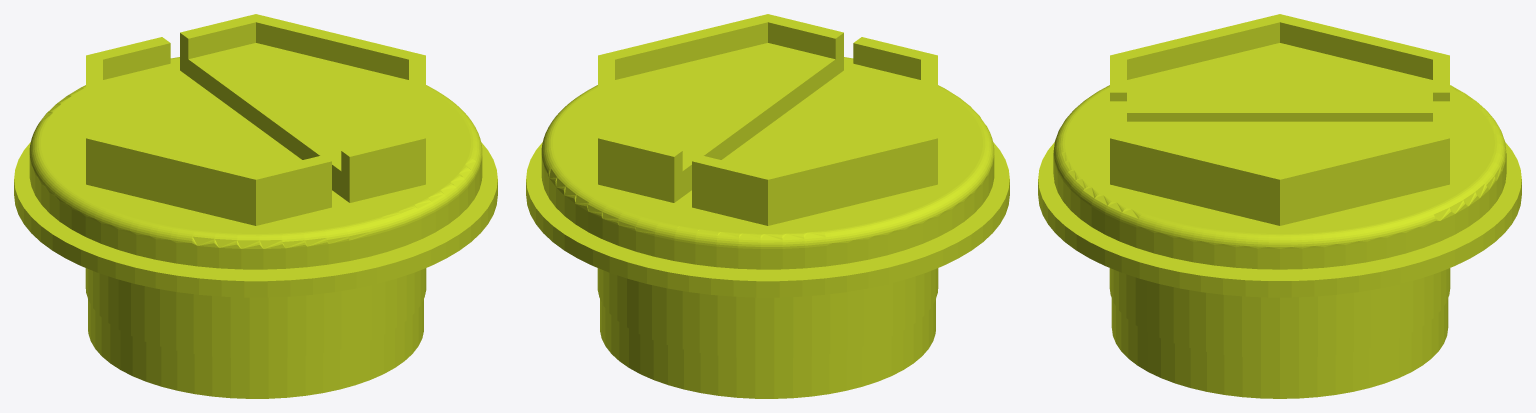
File: SRTFTG.glb
3 views of the same model, side by side, from view 1: azimuth 30°, elevation 25°; view 2: azimuth 150°, elevation 25°; view 3: azimuth 270°, elevation 25° (orthographic).
Visible parts, largest first — view 1: 20597511; view 2: 20597511; view 3: 20597511.
Part boxes in pixels (x1,y1,x2,y2): 20597511: (14, 14, 497, 398); 20597511: (526, 14, 1009, 398); 20597511: (1038, 14, 1521, 398).
Bounding box in the file's own units: 0.9989 × 0.5269 × 1.
